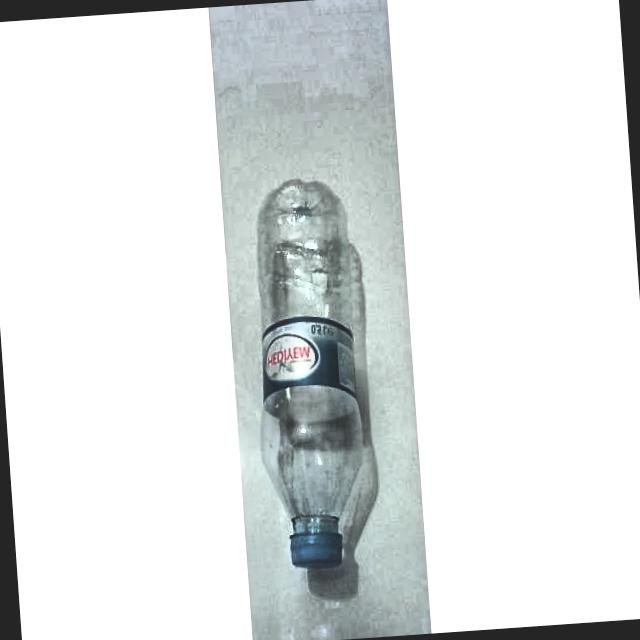plastic bottle: (257, 180, 362, 568)
